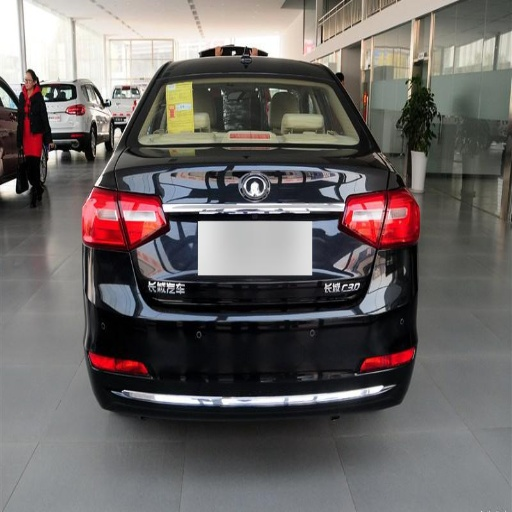back_bumper: (84, 245, 276, 414), (319, 245, 418, 405)
tailgate: (129, 141, 386, 283), (119, 164, 158, 246)
